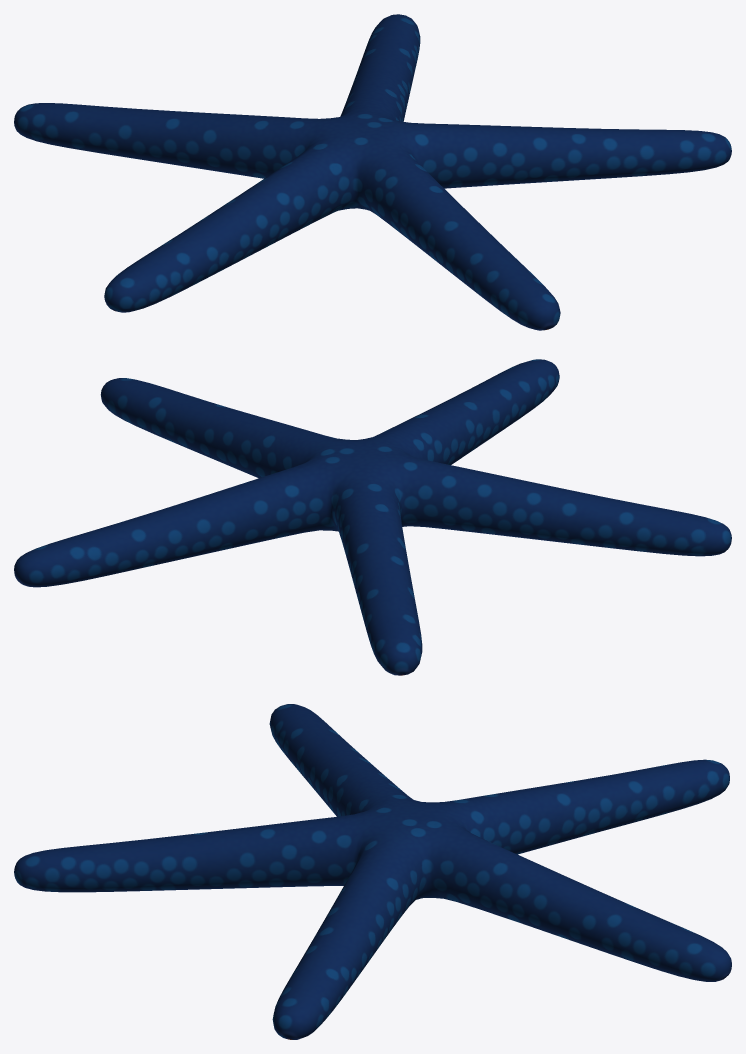
Rendered from asset.glb.
3 renders of one model, top to bottom at view 1: azimuth 30°, elevation 25°; view 2: azimuth 150°, elevation 25°; view 3: azimuth 270°, elevation 25°, orthographic. The views are drawn at different scales.
Visible parts, largest first — view 1: StarfishHP; view 2: StarfishHP; view 3: StarfishHP.
Part boxes in pixels (x1=…): StarfishHP: x1=14, y1=14, x2=731, y2=330; StarfishHP: x1=14, y1=359, x2=731, y2=675; StarfishHP: x1=14, y1=704, x2=731, y2=1039.
Bounding box in the file's own units: 0.2977 × 0.0322 × 0.2844.
Materials: 1 (1 with a texture image).
